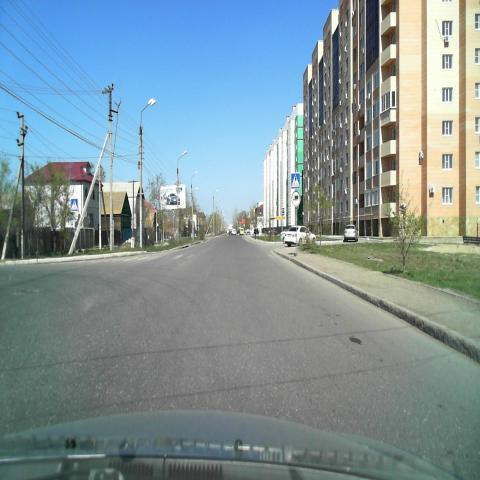3_4_1: (292, 190, 300, 206)
